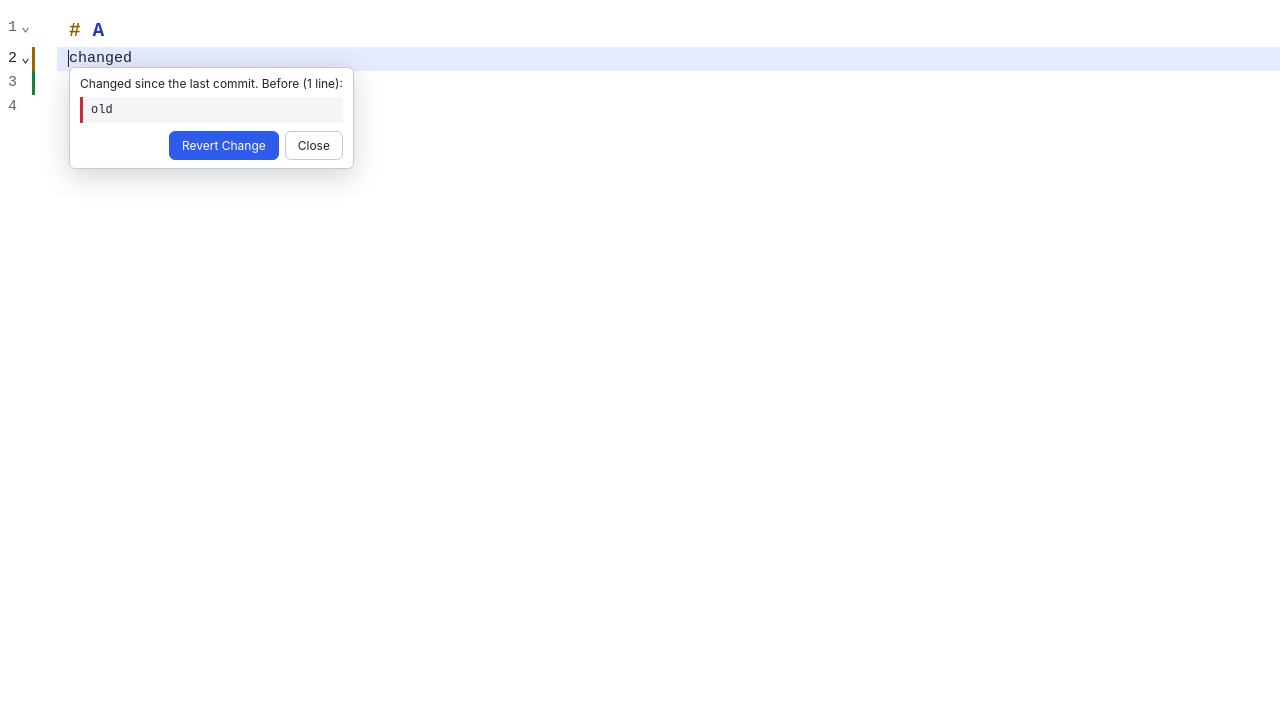
Test: Git change markers › loads the committed text for the document in the editor, draws the bars and reverts from the pop-up
Expected: the number of elements with class "cm-git-modified" is 1, left=32, top=47, right=35, bottom=71
Expected: the number of elements with class "cm-git-added" is 1, left=32, top=71, right=35, bottom=95
What coordinates should you click on to do the following:
click the button "Revert Change"
I would click on:
 (224, 146)
Its box is left=169, top=131, right=279, bottom=160.
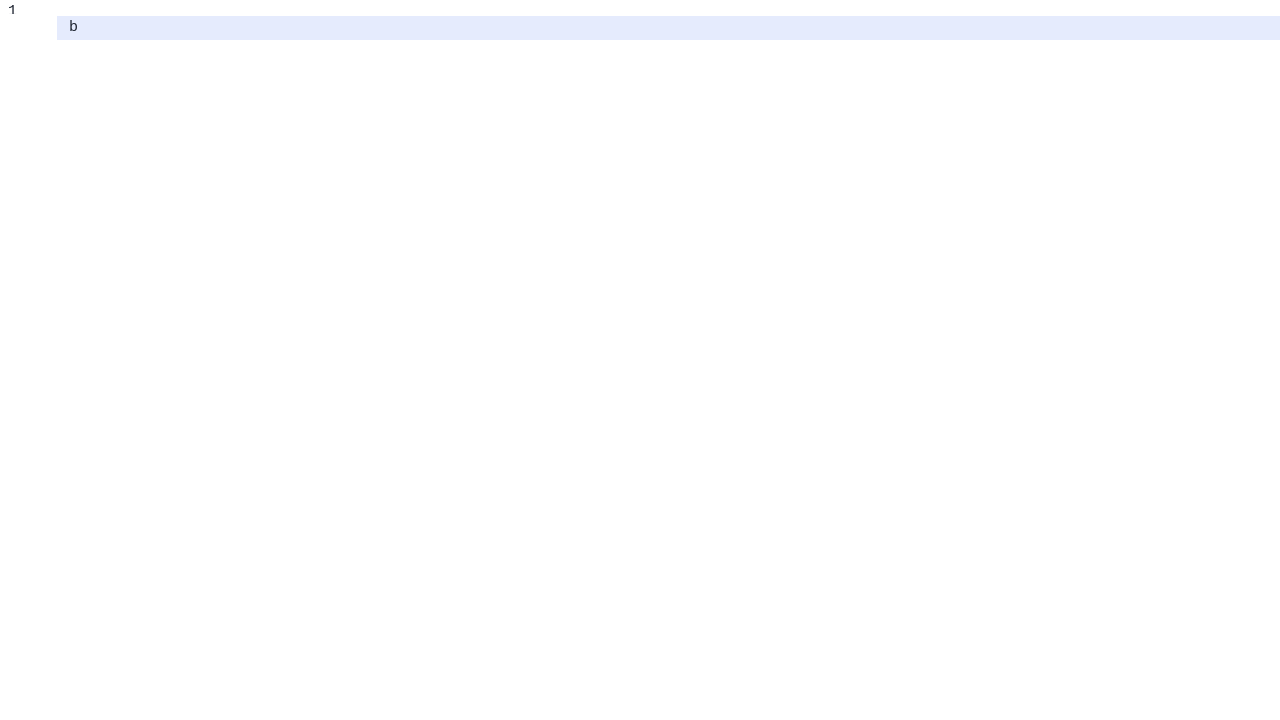
Now the dialog is gone
Now the element with class "cm-git-change" is gone
